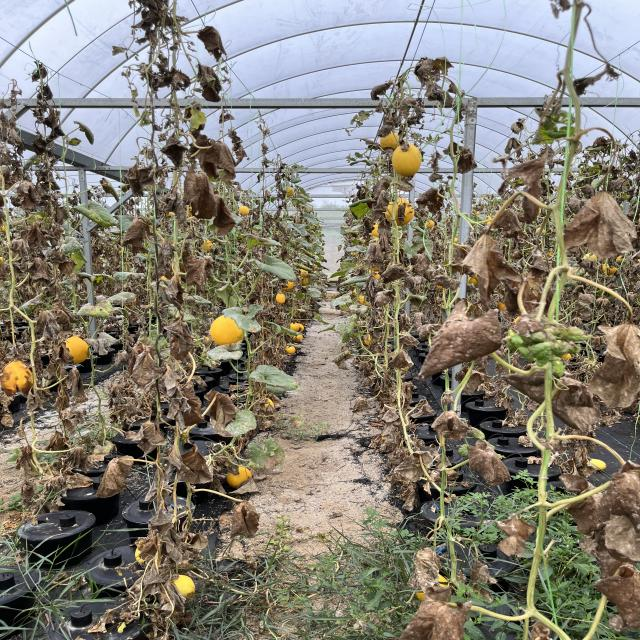CMV: (191, 25, 231, 58)
SLCV: (498, 313, 592, 367)
alternaria leaf blight: (71, 201, 116, 226)
bacterial wilt: (570, 470, 640, 560), (563, 188, 640, 258), (589, 319, 640, 407), (598, 560, 640, 624), (400, 603, 468, 640), (91, 454, 140, 499), (462, 441, 511, 485), (165, 445, 218, 485), (183, 166, 218, 220), (125, 344, 163, 388), (228, 498, 261, 539), (427, 409, 471, 439), (203, 391, 236, 426), (207, 142, 236, 176), (414, 56, 453, 81)
powdery mildew: (222, 305, 266, 334), (248, 364, 297, 390), (250, 254, 297, 281), (207, 342, 245, 363)
